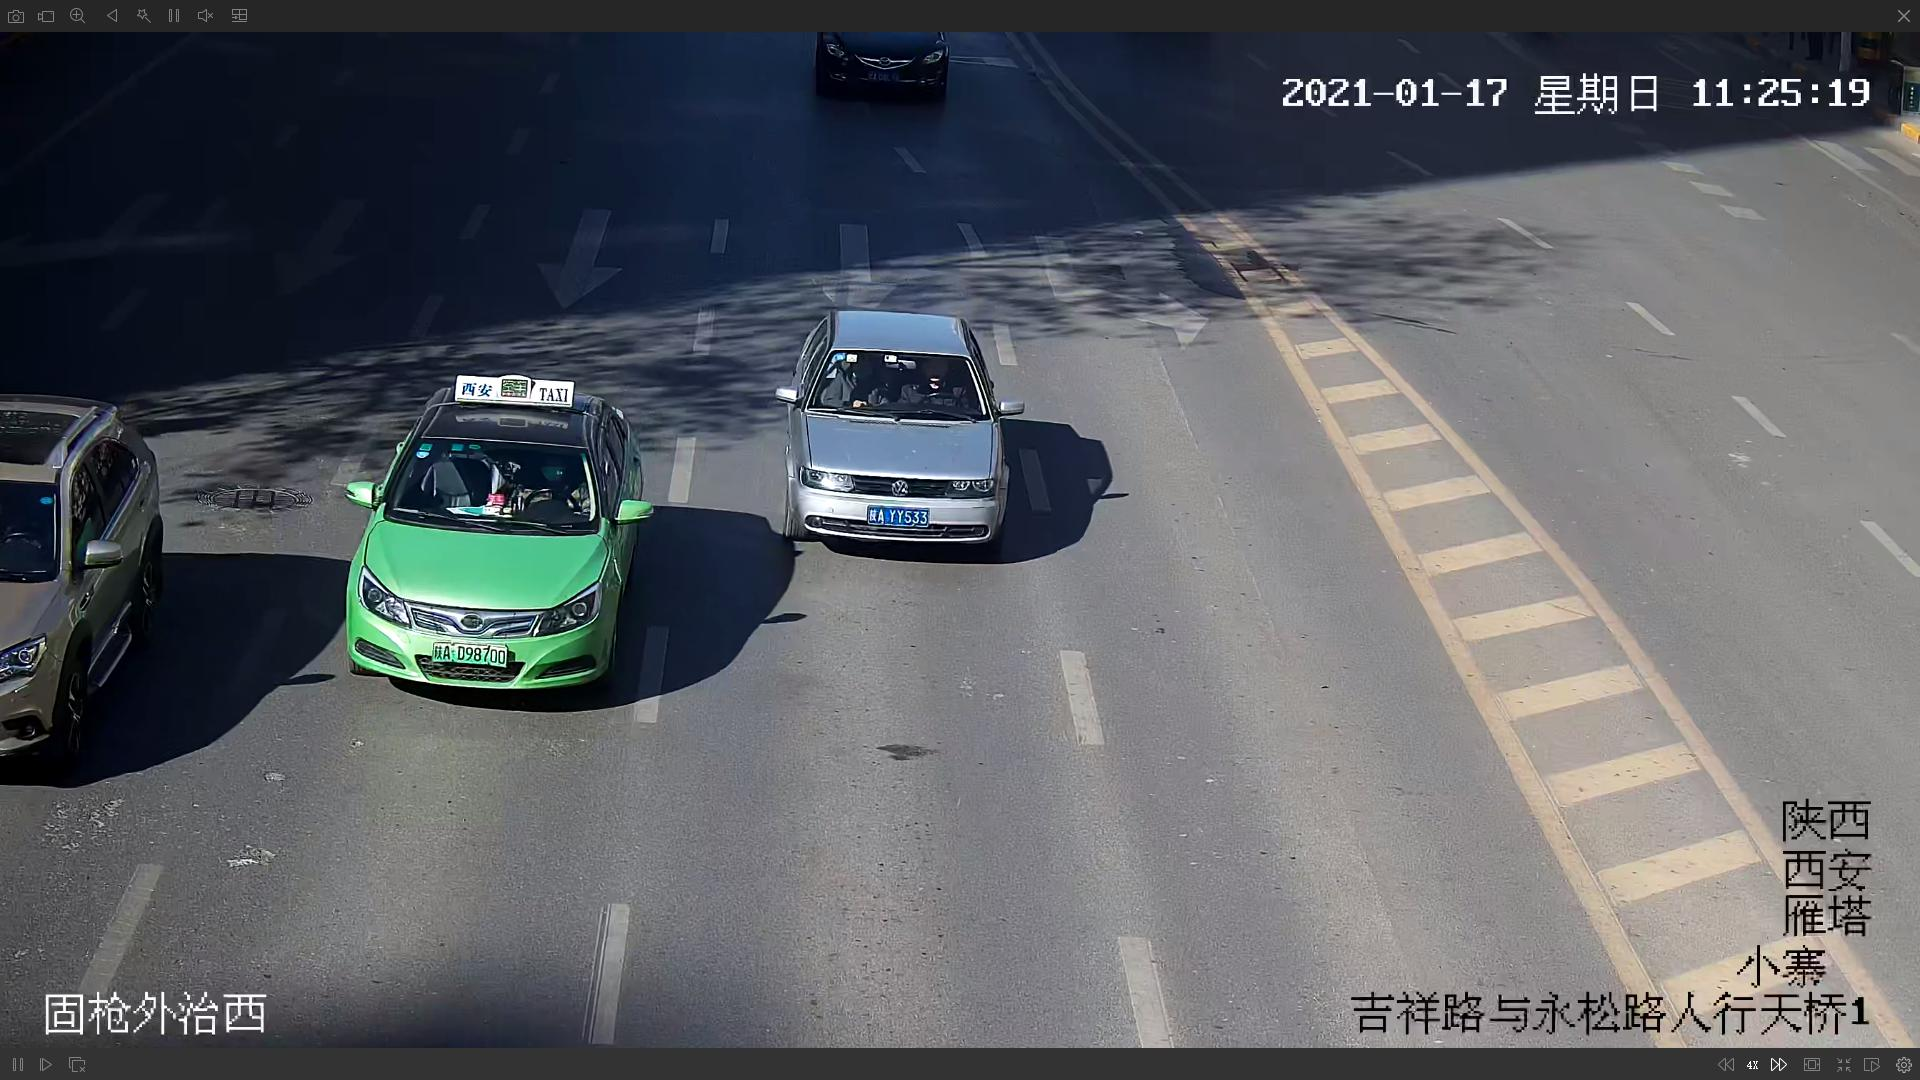grass-green: (349, 369, 647, 690)
silver-gray: (781, 309, 1019, 566)
